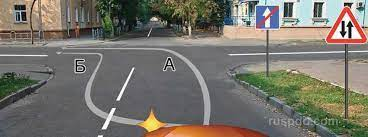1.19.1: (327, 8, 365, 42)
